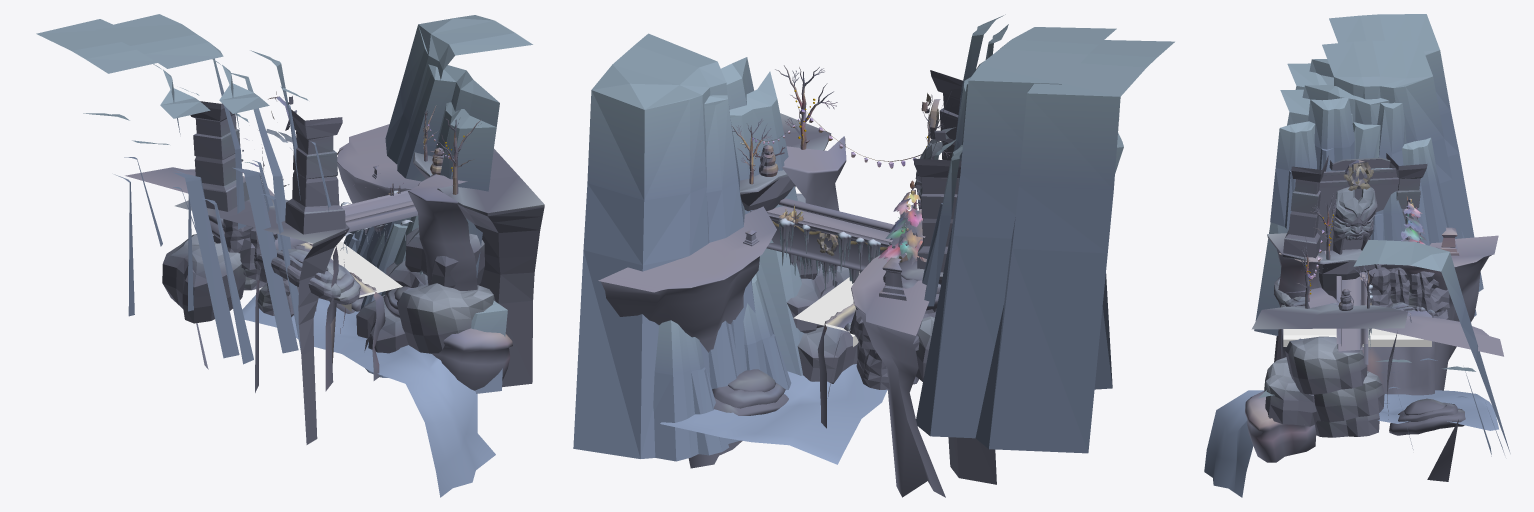
Rendered from Arctic_Narrows_Right_Slide_A.glb.
3 renders of one model, left to right at view 1: azimuth 30°, elevation 25°; view 2: azimuth 150°, elevation 25°; view 3: azimuth 270°, elevation 25°, orthographic. The views are drawn at different scales.
Visible parts, largest first — view 1: Arctic_Narrows_Right_Slide_A, Arctic_Narrows_Left_IceWall_A02 (1), Arctic_Narrows_Arc_Base (1), Arctic_Narrows_Right_IceWall_A02 (2), Arctic_Narrows_Right_IceWall_A02 (1), Arctic_Narrows_Arc_LPillar, Arctic_Narrows_Arc_Base, Arctic_Narrows_SnowRock_A01 (1), Arctic_Narrows_Arc_RPillar, Arctic_Narrows_SnowRock_A01 (5), Arctic_Narrows_Right_IceWall_A02_Left (×2), Arctic_Narrows_SnowRock_A01 (2) (+8 smaller); view 2: Arctic_Narrows_Left_IceWall_A02 (1), Arctic_Narrows_Right_IceWall_A02 (2), Arctic_Narrows_Right_Slide_A, Arctic_Narrows_Right_IceWall_A02 (1), Arctic_Narrows_Left_IceWall_A02_Left, Arctic_Narrows_Left_IceWall_A02_Mid, Arctic_Narrows_Arc_Base (1), Arctic_Narrows_Arc_RPillar, Arctic_Narrows_Right_IceWall_A02_Left, Arctic_Narrows_SnowRock_A01, Arctic_Narrows_Arc_Base, Arctic_Narrows_Arc_LPillar (+10 smaller); view 3: Arctic_Narrows_Right_Slide_A, Arctic_Narrows_Right_IceWall_A02 (1), Arctic_Narrows_Right_IceWall_A02 (2), Arctic_Narrows_Right_IceWall_A02_Left (×2), Arctic_Narrows_Right_IceWall_A02_Mid, Arctic_Narrows_Left_IceWall_A02 (1), Arctic_Narrows_SnowRock_A01 (2), Arctic_Narrows_Arc_Base (1), Arctic_Narrows_Arc_Backwall, Arctic_Narrows_Arc_LPillar, Arctic_Narrows_SnowRock_A01 (1), Arctic_Narrows_SnowRock_A01 (4) (+13 smaller).
Part boxes in pixels (x1,y1,x2,y2): Arctic_Narrows_Right_Slide_A: (125, 124, 512, 497); Arctic_Narrows_Left_IceWall_A02 (1): (356, 15, 532, 295); Arctic_Narrows_Arc_Base (1): (413, 149, 544, 387); Arctic_Narrows_Right_IceWall_A02 (2): (36, 19, 253, 364); Arctic_Narrows_Right_IceWall_A02 (1): (95, 14, 300, 353); Arctic_Narrows_Arc_LPillar: (285, 109, 345, 234); Arctic_Narrows_Arc_Base: (175, 196, 349, 444); Arctic_Narrows_SnowRock_A01 (1): (397, 283, 495, 353); Arctic_Narrows_Arc_RPillar: (190, 101, 249, 211); Arctic_Narrows_SnowRock_A01 (5): (162, 234, 245, 323); Arctic_Narrows_Right_IceWall_A02_Left (×2): (180, 58, 291, 250); Arctic_Narrows_SnowRock_A01 (2): (405, 227, 484, 287); Arctic_Narrows_Left_IceWall_A02 (1): (573, 33, 819, 458); Arctic_Narrows_Right_IceWall_A02 (2): (975, 40, 1174, 453); Arctic_Narrows_Right_Slide_A: (598, 136, 945, 497); Arctic_Narrows_Right_IceWall_A02 (1): (916, 27, 1116, 438); Arctic_Narrows_Left_IceWall_A02_Left: (653, 320, 742, 461); Arctic_Narrows_Left_IceWall_A02_Mid: (743, 273, 791, 389); Arctic_Narrows_Arc_Base (1): (740, 113, 831, 211); Arctic_Narrows_Arc_RPillar: (913, 158, 961, 272); Arctic_Narrows_Right_IceWall_A02_Left: (922, 83, 968, 306); Arctic_Narrows_SnowRock_A01: (797, 326, 857, 383); Arctic_Narrows_Arc_Base: (938, 272, 996, 484); Arctic_Narrows_Arc_LPillar: (930, 70, 962, 160); Arctic_Narrows_Right_Slide_A: (1204, 227, 1503, 497); Arctic_Narrows_Right_IceWall_A02 (1): (1254, 40, 1476, 335); Arctic_Narrows_Right_IceWall_A02 (2): (1287, 14, 1483, 291); Arctic_Narrows_Right_IceWall_A02_Left (×2): (1352, 102, 1448, 245); Arctic_Narrows_Right_IceWall_A02_Mid: (1270, 97, 1354, 228); Arctic_Narrows_Left_IceWall_A02 (1): (1308, 239, 1510, 453); Arctic_Narrows_SnowRock_A01 (2): (1285, 336, 1367, 394); Arctic_Narrows_Arc_Base (1): (1251, 304, 1407, 419); Arctic_Narrows_Arc_Backwall: (1317, 157, 1399, 250); Arctic_Narrows_Arc_LPillar: (1283, 155, 1328, 258); Arctic_Narrows_SnowRock_A01 (1): (1264, 357, 1317, 426); Arctic_Narrows_SnowRock_A01 (4): (1314, 371, 1384, 422).
Size of what is drawn, in the model's own units: 30.66 by 27.97 by 22.65.
